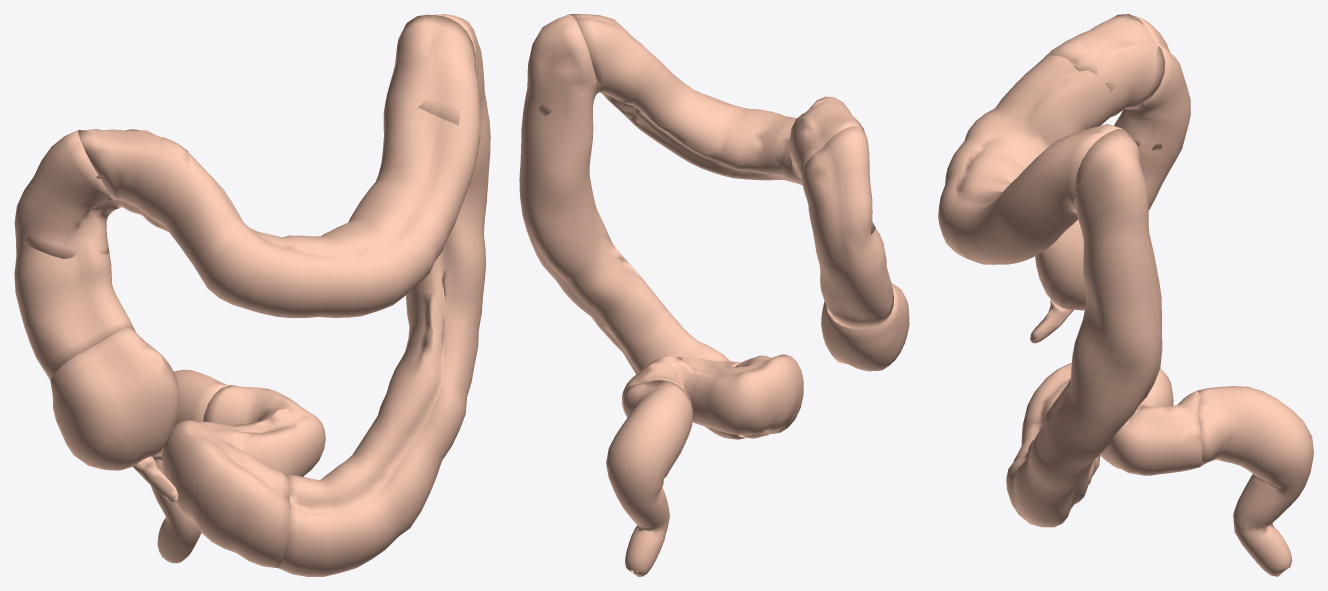
3 renders of one model, left to right at view 1: azimuth 30°, elevation 25°; view 2: azimuth 150°, elevation 25°; view 3: azimuth 270°, elevation 25°, orthographic. The views are drawn at different scales.
Visible parts, largest first — view 1: VH_F_transverse_colon, VH_F_descending_colon, VH_F_sigmoid_colon, VH_F_ascending_colon, VH_F_caecum, VH_F_rectum, VH_F_hepatic_flexure_of_colon, VH_F_splenic_flexure_of_colon, VH_F_vermiform_appendix; view 2: VH_F_descending_colon, VH_F_transverse_colon, VH_F_ascending_colon, VH_F_rectum, VH_F_sigmoid_colon, VH_F_caecum, VH_F_hepatic_flexure_of_colon, VH_F_splenic_flexure_of_colon; view 3: VH_F_descending_colon, VH_F_transverse_colon, VH_F_rectum, VH_F_sigmoid_colon, VH_F_ascending_colon, VH_F_caecum, VH_F_hepatic_flexure_of_colon, VH_F_vermiform_appendix, VH_F_splenic_flexure_of_colon.
Boxes of the visible parts, x1,y1,x2,y2 form: VH_F_transverse_colon: (78, 14, 480, 317); VH_F_descending_colon: (278, 14, 490, 576); VH_F_sigmoid_colon: (162, 385, 325, 567); VH_F_ascending_colon: (14, 130, 135, 379); VH_F_caecum: (50, 327, 179, 470); VH_F_rectum: (150, 369, 230, 563); VH_F_hepatic_flexure_of_colon: (24, 129, 188, 258); VH_F_splenic_flexure_of_colon: (406, 14, 484, 125); VH_F_vermiform_appendix: (133, 456, 178, 502); VH_F_descending_colon: (519, 14, 744, 439); VH_F_transverse_colon: (570, 14, 863, 185); VH_F_ascending_colon: (801, 126, 893, 329); VH_F_rectum: (606, 380, 693, 576); VH_F_sigmoid_colon: (622, 354, 803, 438); VH_F_caecum: (821, 282, 909, 371); VH_F_hepatic_flexure_of_colon: (789, 96, 875, 234); VH_F_splenic_flexure_of_colon: (537, 16, 636, 120); VH_F_descending_colon: (1006, 128, 1162, 527); VH_F_transverse_colon: (938, 14, 1164, 264); VH_F_rectum: (1197, 386, 1313, 576); VH_F_sigmoid_colon: (1022, 363, 1202, 475); VH_F_ascending_colon: (1114, 15, 1190, 210); VH_F_caecum: (1035, 220, 1085, 310); VH_F_hepatic_flexure_of_colon: (1046, 20, 1181, 150); VH_F_vermiform_appendix: (1030, 299, 1073, 343); VH_F_splenic_flexure_of_colon: (1023, 130, 1140, 242).
Size of the model in its own units: 0.2433 by 0.2949 by 0.1934.
